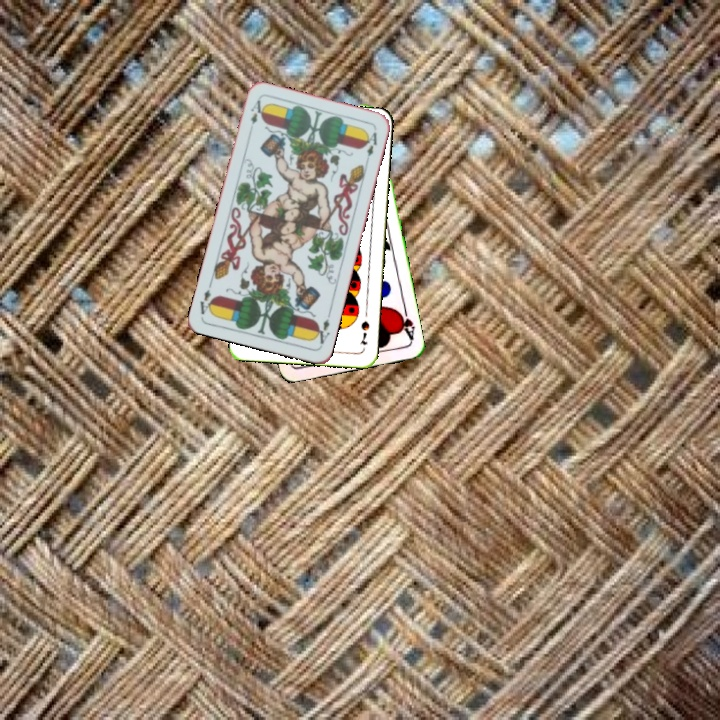EA: (310, 315, 332, 348), (246, 96, 266, 127)
HA: (393, 303, 417, 343)
S7: (356, 316, 372, 347)
